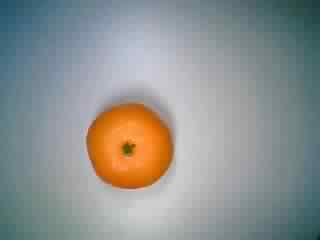orange: (77, 96, 175, 194)
